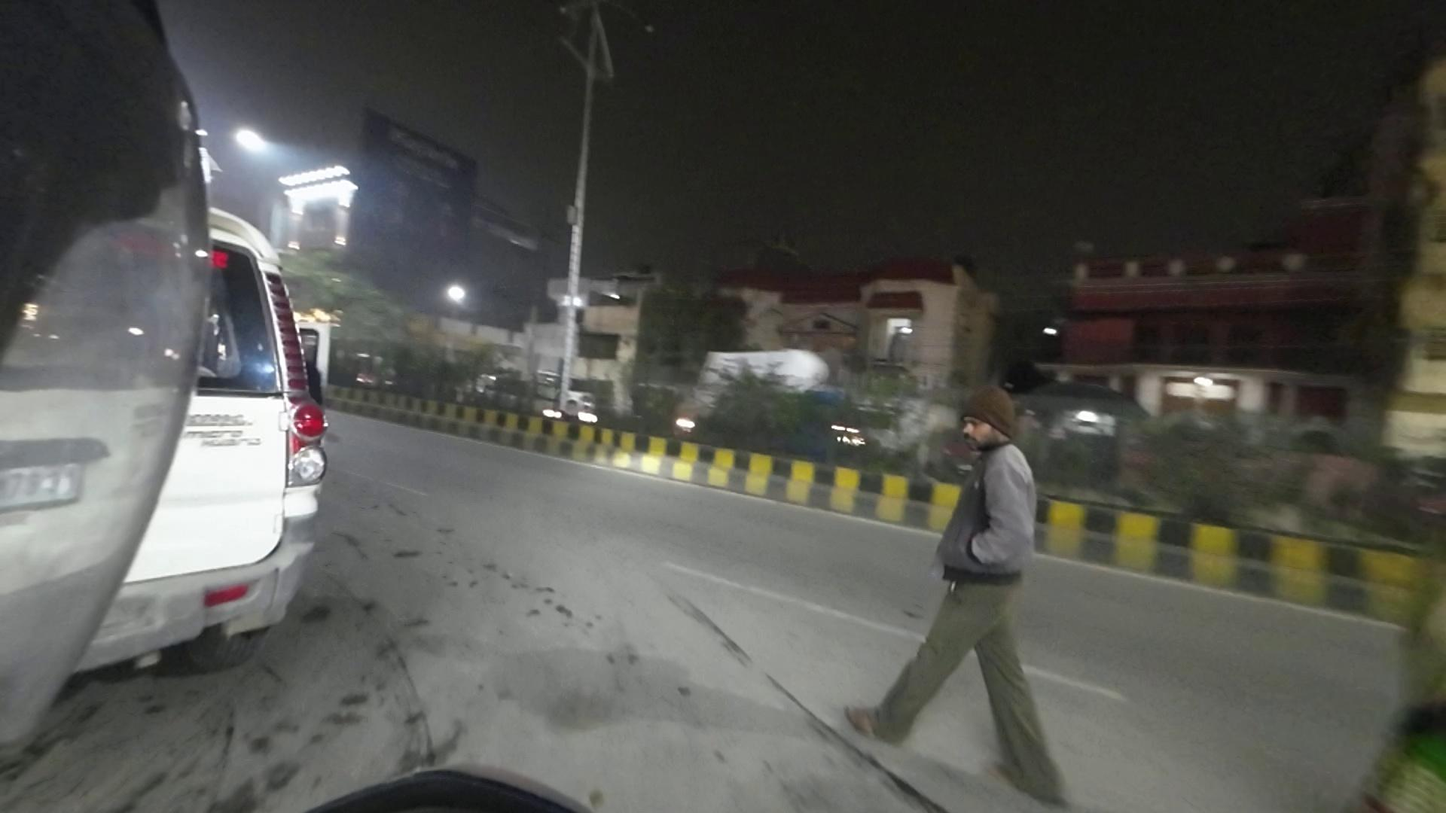streetlight: (619, 10, 664, 37)
